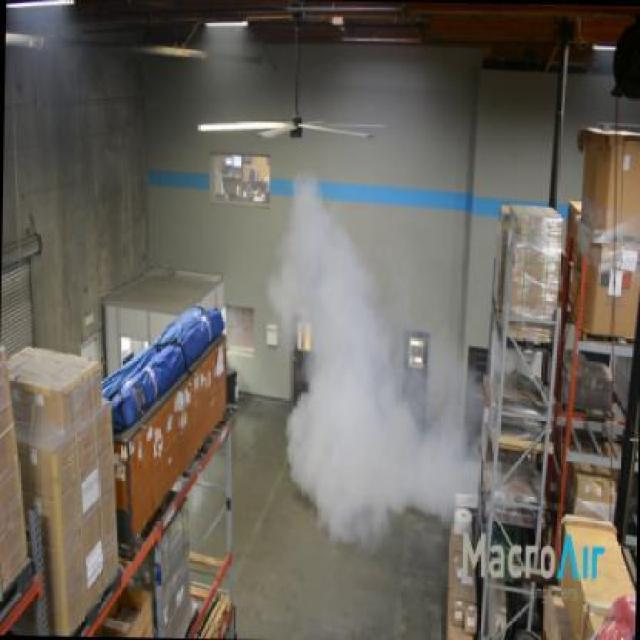fire: (264, 160, 450, 554)
